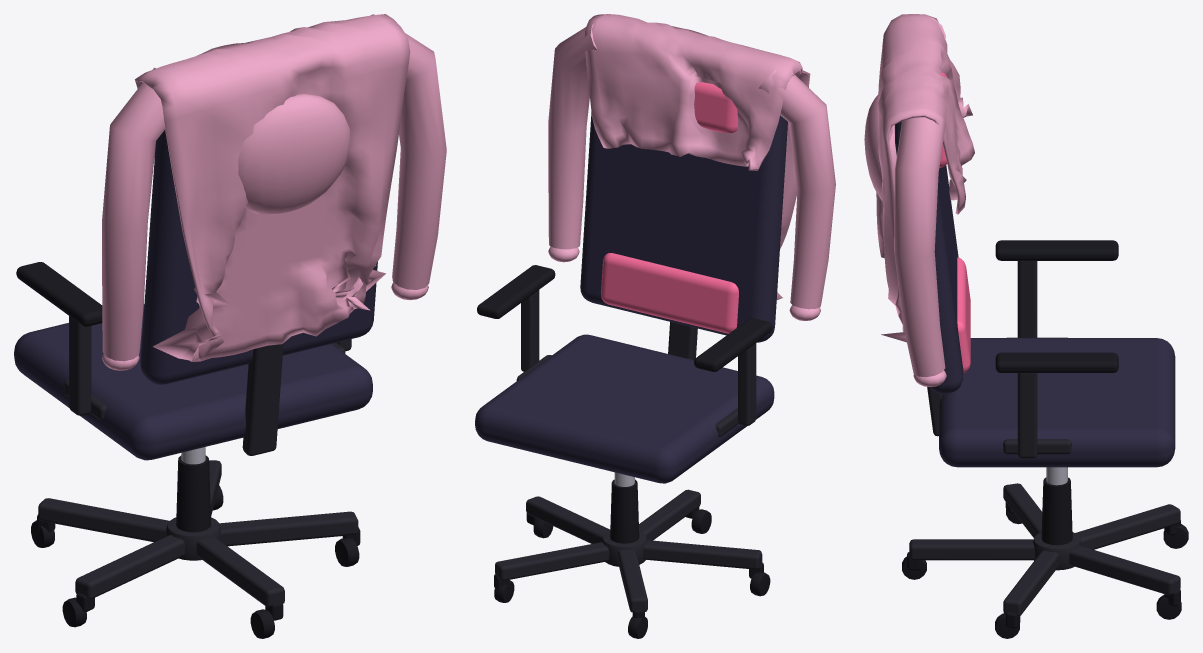
File: desk_chair.fbx
3 views of the same model, side by side, from view 1: azimuth 30°, elevation 25°; view 2: azimuth 150°, elevation 25°; view 3: azimuth 270°, elevation 25° (orthographic). The views are drawn at different scales.
Parts seen in each view (by area): view 1: desk_chair; view 2: desk_chair; view 3: desk_chair.
Boxes of the visible parts, x1,y1,x2,y2 form: desk_chair: [14, 14, 446, 638]; desk_chair: [475, 14, 835, 638]; desk_chair: [864, 14, 1188, 638].
Bounding box in the file's own units: 0.7028 × 1.18 × 0.6585.
